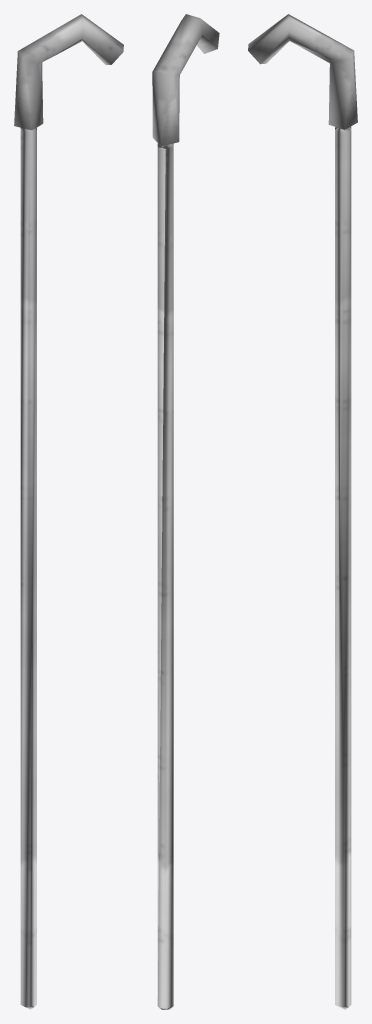
File: RightHand_C2.fbx
The picture shows the model from 3 angles, left to right: view 1: azimuth 90°, elevation 25°; view 2: azimuth 150°, elevation 25°; view 3: azimuth 270°, elevation 25°; orthographic projection.
Visible parts, largest first — view 1: Civ_ParaguasCerrado_RightHand_C2; view 2: Civ_ParaguasCerrado_RightHand_C2; view 3: Civ_ParaguasCerrado_RightHand_C2.
Part boxes in pixels (x1,y1,x2,y2): Civ_ParaguasCerrado_RightHand_C2: (14,14,123,1009); Civ_ParaguasCerrado_RightHand_C2: (152,14,219,1009); Civ_ParaguasCerrado_RightHand_C2: (248,14,357,1009).
Size of the model in its own units: 0.0933 by 3.61 by 0.3622.
